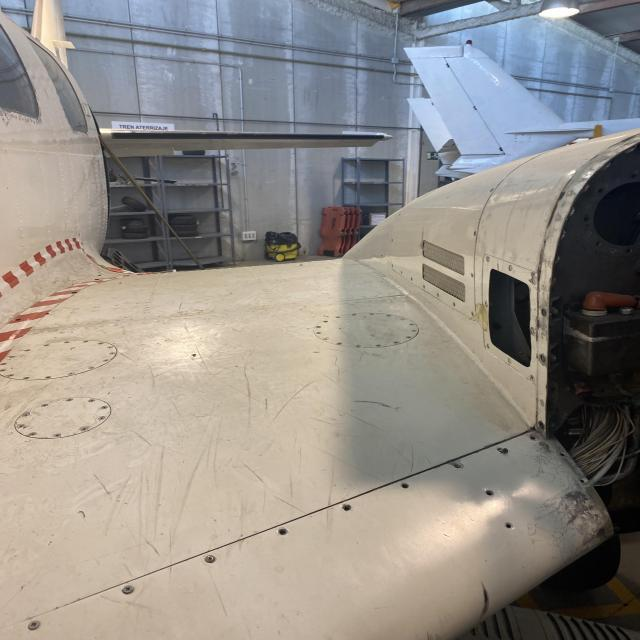Missing_Fastener: (276, 527, 292, 537), (339, 502, 354, 512), (398, 482, 416, 490), (504, 522, 516, 531), (577, 478, 589, 486), (484, 488, 496, 496), (556, 451, 568, 457), (530, 436, 538, 441)
